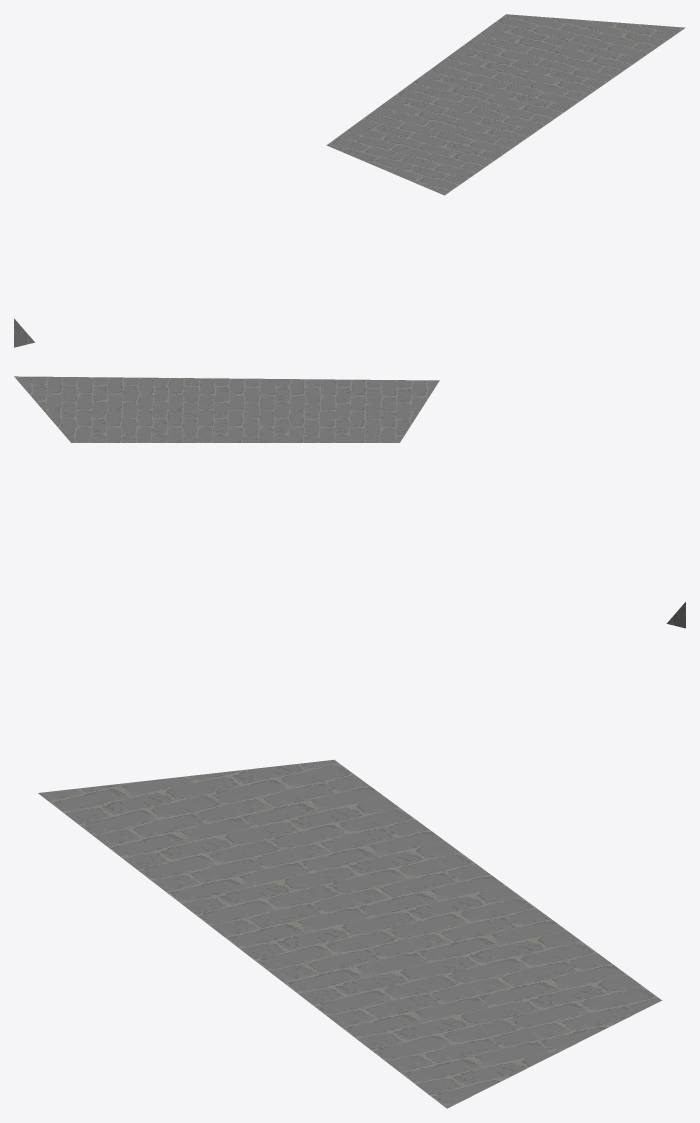
The model's file is kd_stage_135ebf_1_22.glb.
3 views of the same model, one above another, from view 1: azimuth 30°, elevation 25°; view 2: azimuth 150°, elevation 25°; view 3: azimuth 270°, elevation 25° (orthographic). The views are drawn at different scales.
Parts seen in each view (by area): view 1: kd_stage_135ebf_1_22; view 2: kd_stage_135ebf_1_22; view 3: kd_stage_135ebf_1_22.
Part boxes in pixels (<box>): kd_stage_135ebf_1_22: <box>14,14,685,347</box>; kd_stage_135ebf_1_22: <box>14,376,685,628</box>; kd_stage_135ebf_1_22: <box>38,759,661,1108</box>.
Bounding box in the file's own units: 9.91 × 1.7 × 4.16.
1 material, 1 textured.
